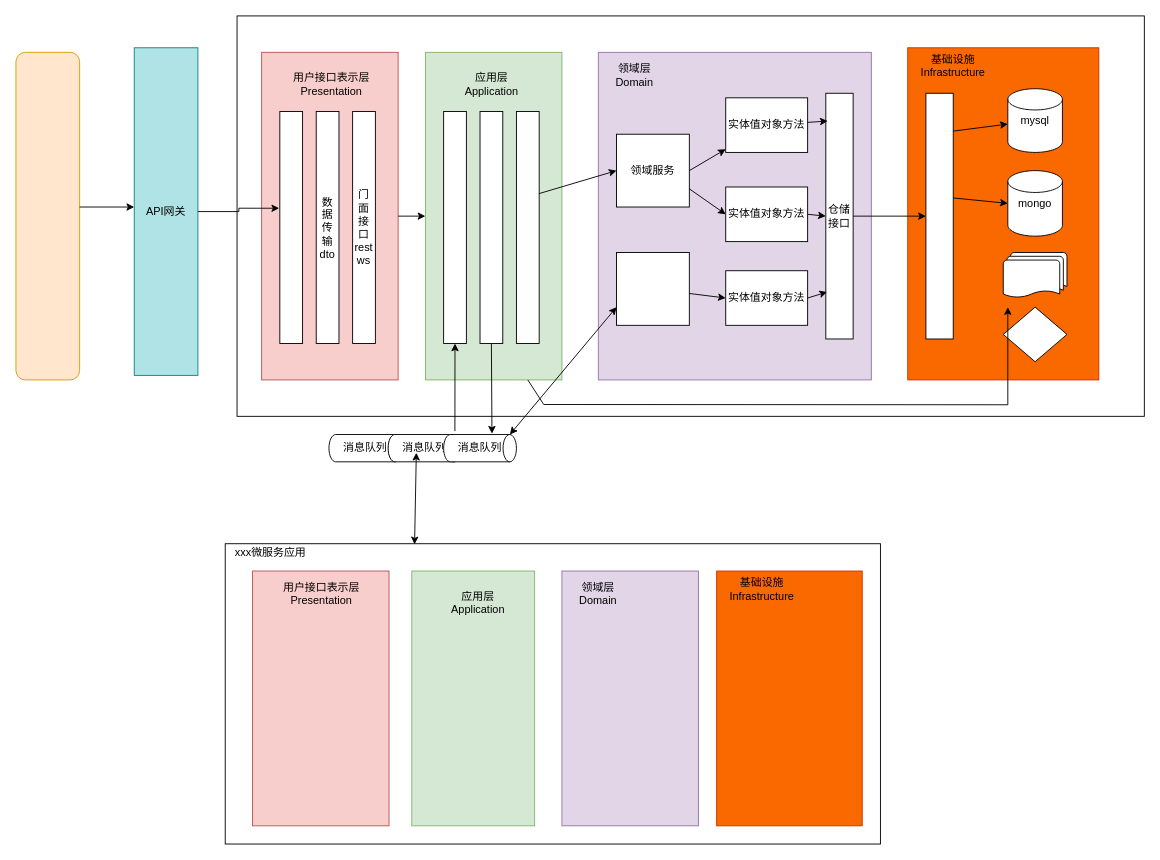
Image size: 1160x860. Some labels were removed from this diagram. The shapes that lost their labels are listed below. From the top down, each one's centre as x and y in pixels, then its label:
pixel 47 215: 前端（app、web、小程序）
pixel 291 227: 数据装配
pixel 454 227: 应用事件处理
pixel 491 227: 应用事件发布
pixel 527 227: 应用服务
pixel 939 215: 仓储实现
pixel 652 288: 领域事件
pixel 1034 275: 文件
pixel 1034 334: 缓存
